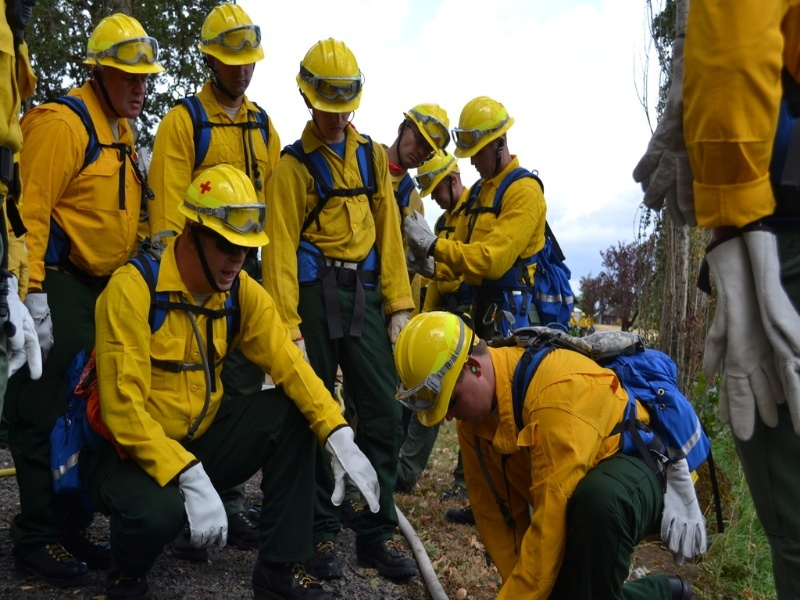baret: (391, 312, 482, 427), (175, 161, 270, 251), (295, 37, 365, 117), (80, 11, 164, 77), (198, 1, 267, 68), (452, 97, 519, 161), (404, 102, 454, 162)
